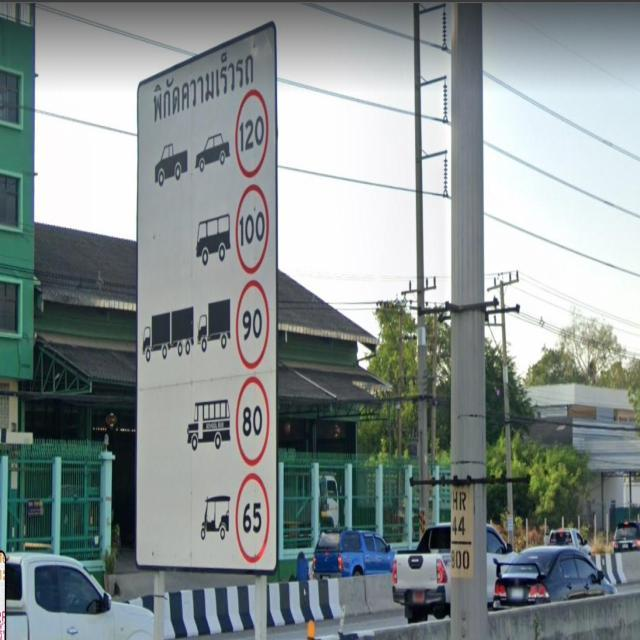car: (8, 552, 151, 640), (494, 546, 615, 607), (391, 522, 450, 622), (312, 532, 394, 578), (486, 526, 510, 601)
road-signs: (136, 22, 279, 573)
